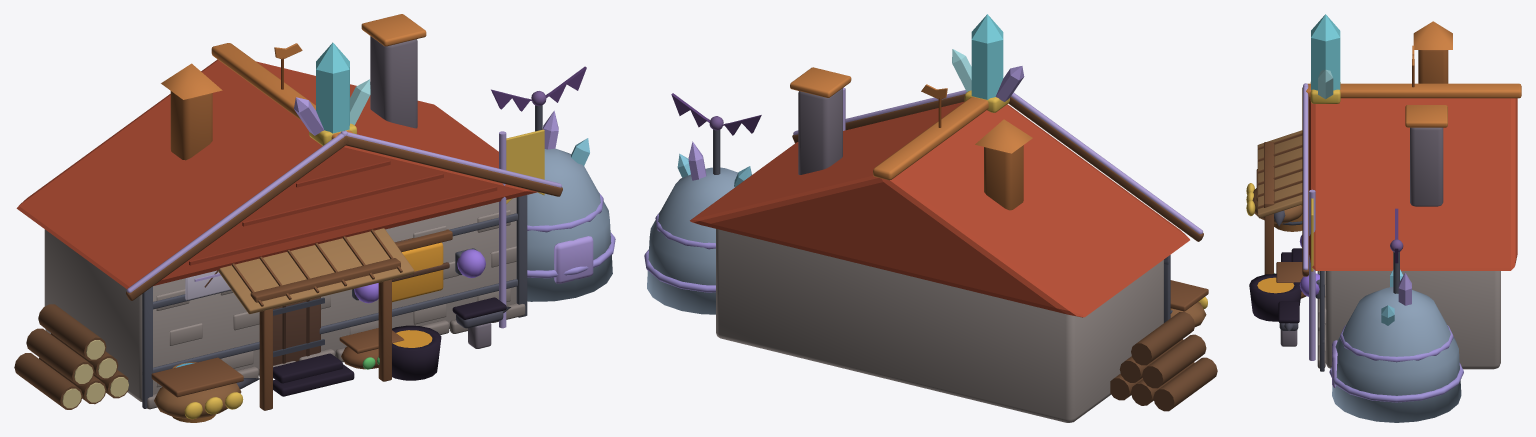
Rendered from forge5.glb.
3 views of the same model, side by side, from view 1: azimuth 30°, elevation 25°; view 2: azimuth 150°, elevation 25°; view 3: azimuth 270°, elevation 25° (orthographic). The views are drawn at different scales.
Visible parts, largest first — view 1: base, glim-gable, obsidian, king-crystal; view 2: base, king-crystal, glim-gable; view 3: base, king-crystal, obsidian, glim-gable.
Part boxes in pixels (x1,y1,x2,y2): base: [14, 14, 615, 422]; glim-gable: [127, 129, 561, 328]; obsidian: [273, 297, 506, 396]; king-crystal: [294, 42, 370, 145]; base: [644, 67, 1217, 422]; king-crystal: [952, 14, 1024, 112]; glim-gable: [793, 87, 1202, 234]; base: [1246, 21, 1521, 422]; king-crystal: [1310, 14, 1340, 103]; obsidian: [1249, 248, 1302, 323]; glim-gable: [1303, 83, 1315, 360].
Size of the model in its own units: 8.65 by 4.61 by 4.14.
